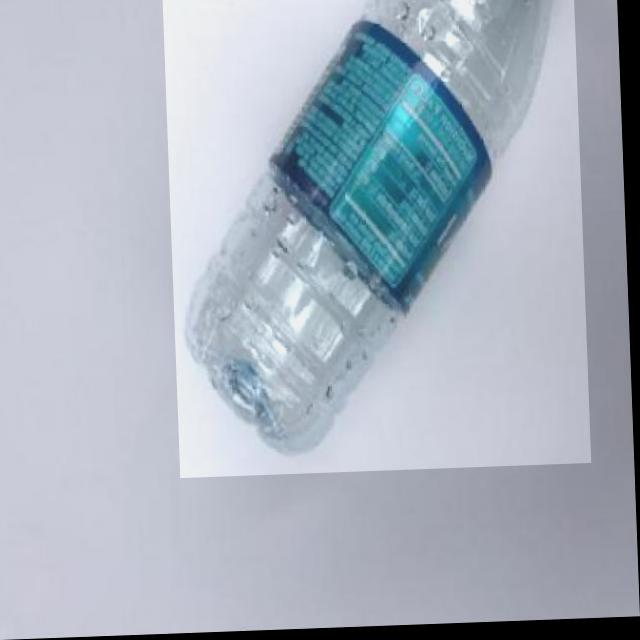bottle: (167, 0, 592, 479)
